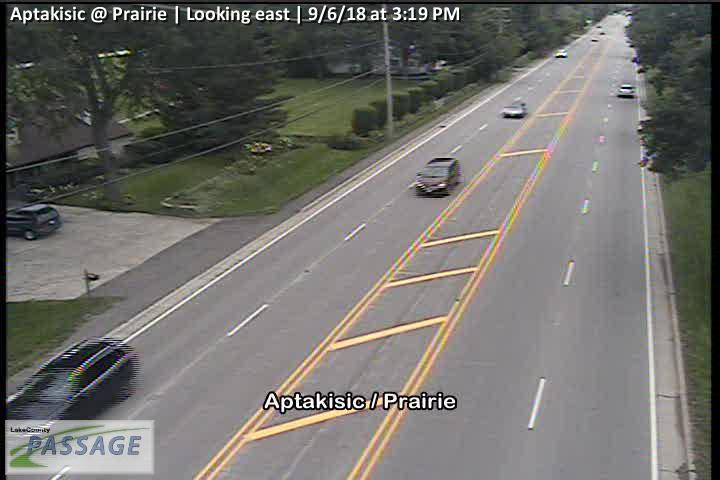SUV: (5, 336, 137, 439), (4, 204, 64, 240), (415, 157, 462, 196)
Sedan: (503, 102, 528, 117), (618, 85, 634, 97), (556, 49, 567, 56)
